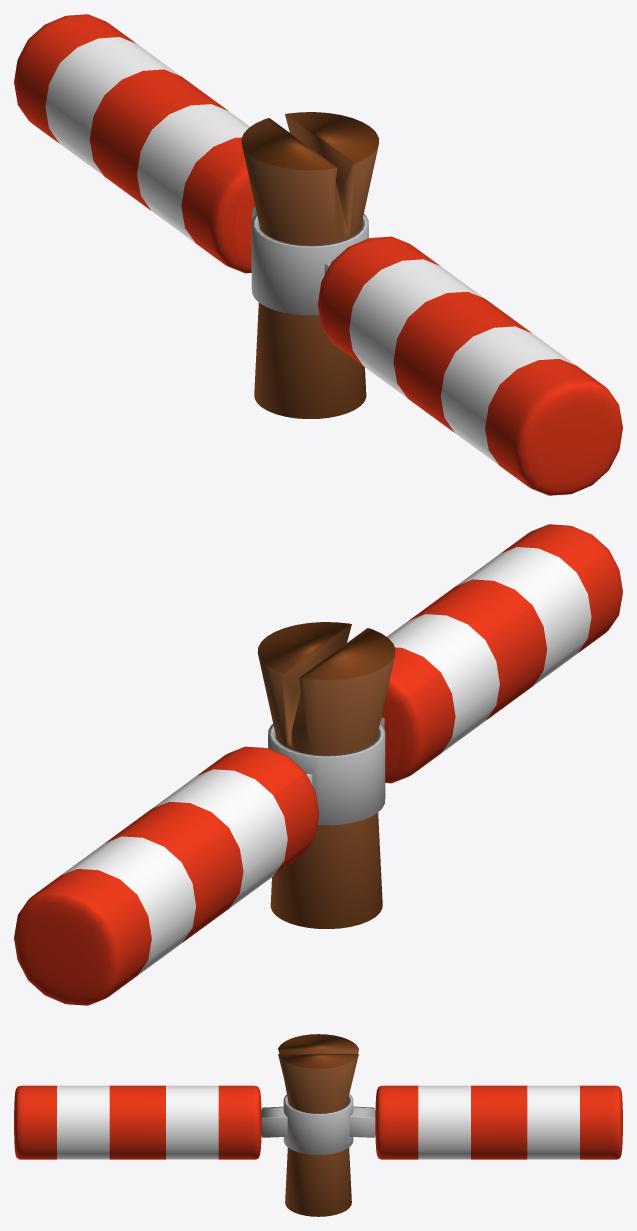
File: trap_trapcircledoublered.glb
3 views of the same model, one above another, from view 1: azimuth 30°, elevation 25°; view 2: azimuth 150°, elevation 25°; view 3: azimuth 270°, elevation 25° (orthographic). The views are drawn at different scales.
Parts seen in each view (by area): view 1: Cylinder.017_visual, Cylinder.008_visual; view 2: Cylinder.017_visual, Cylinder.008_visual; view 3: Cylinder.017_visual, Cylinder.008_visual.
Boxes of the visible parts, x1,y1,x2,y2 form: Cylinder.017_visual: (14, 14, 622, 495); Cylinder.008_visual: (241, 112, 379, 418); Cylinder.017_visual: (14, 524, 622, 1005); Cylinder.008_visual: (257, 622, 395, 928); Cylinder.017_visual: (14, 1085, 622, 1159); Cylinder.008_visual: (278, 1034, 358, 1216).
Size of what is drawn, in the model's own units: 0.41 by 0.8222 by 3.
Materials: 1 (1 with a texture image).
